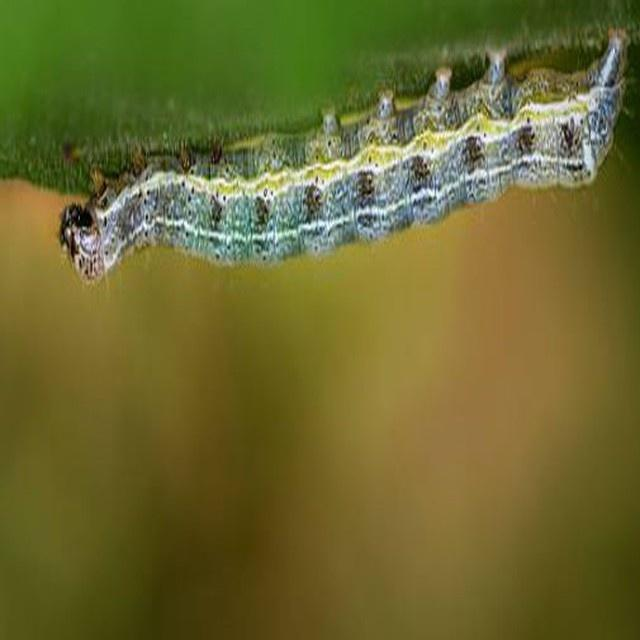gusano_cogollero: (63, 29, 627, 286)
